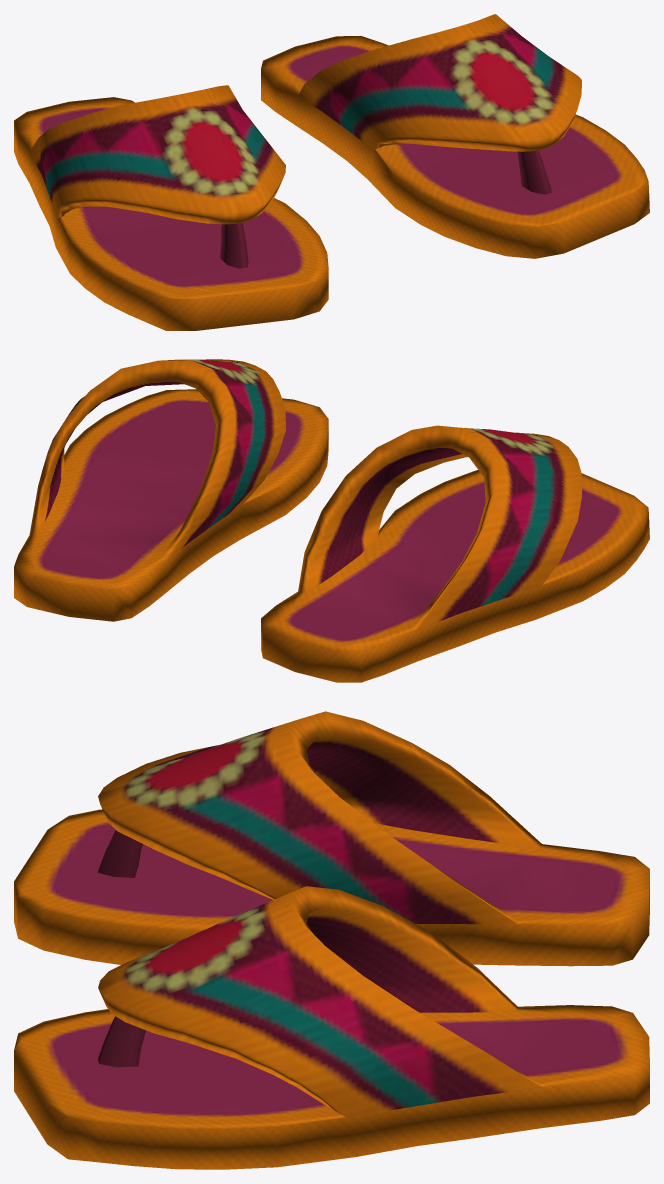
The model's file is ShoesSandalBeads0.glb.
3 views of the same model, one above another, from view 1: azimuth 30°, elevation 25°; view 2: azimuth 150°, elevation 25°; view 3: azimuth 270°, elevation 25° (orthographic). The views are drawn at different scales.
Visible parts, largest first — view 1: Body__mShoes; view 2: Body__mShoes; view 3: Body__mShoes.
Part boxes in pixels (x1,y1,x2,y2): Body__mShoes: [14, 14, 649, 330]; Body__mShoes: [14, 359, 649, 682]; Body__mShoes: [14, 711, 649, 1169].
Bounding box in the file's own units: 3.27 × 0.893 × 2.69.
Materials: 1 (1 with a texture image).
